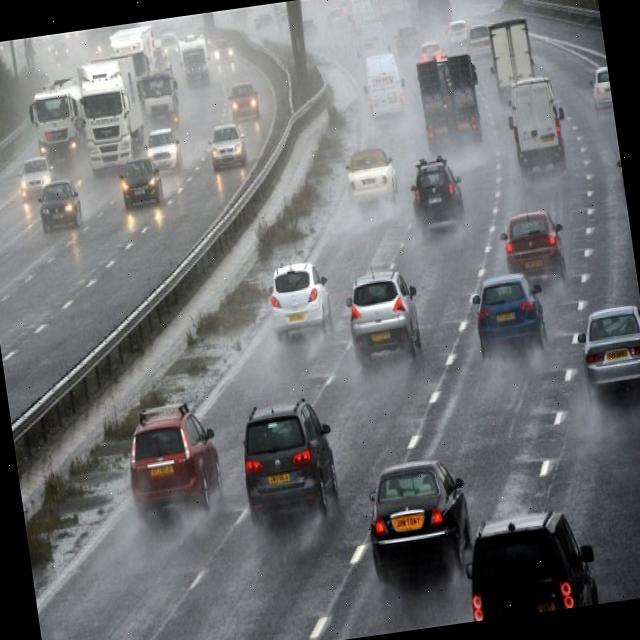bus: (76, 54, 158, 173), (418, 57, 485, 152), (485, 16, 539, 110), (25, 77, 87, 157), (114, 23, 164, 102), (140, 66, 185, 138), (176, 30, 212, 93), (401, 0, 456, 41)
car: (461, 500, 602, 620), (362, 452, 480, 586), (235, 393, 344, 522), (121, 396, 228, 524), (342, 264, 425, 366), (506, 71, 568, 174), (265, 254, 336, 336), (576, 303, 640, 392), (472, 270, 546, 346), (501, 206, 566, 274), (345, 140, 403, 216), (359, 52, 412, 128), (408, 158, 466, 220), (35, 178, 85, 233), (118, 155, 166, 210), (353, 22, 394, 76), (207, 120, 250, 170), (17, 153, 57, 202), (145, 126, 184, 172), (227, 80, 263, 122), (343, 0, 379, 36), (590, 65, 614, 112), (468, 24, 493, 61), (394, 23, 419, 51), (212, 36, 234, 66), (445, 20, 469, 46), (416, 39, 444, 60)
